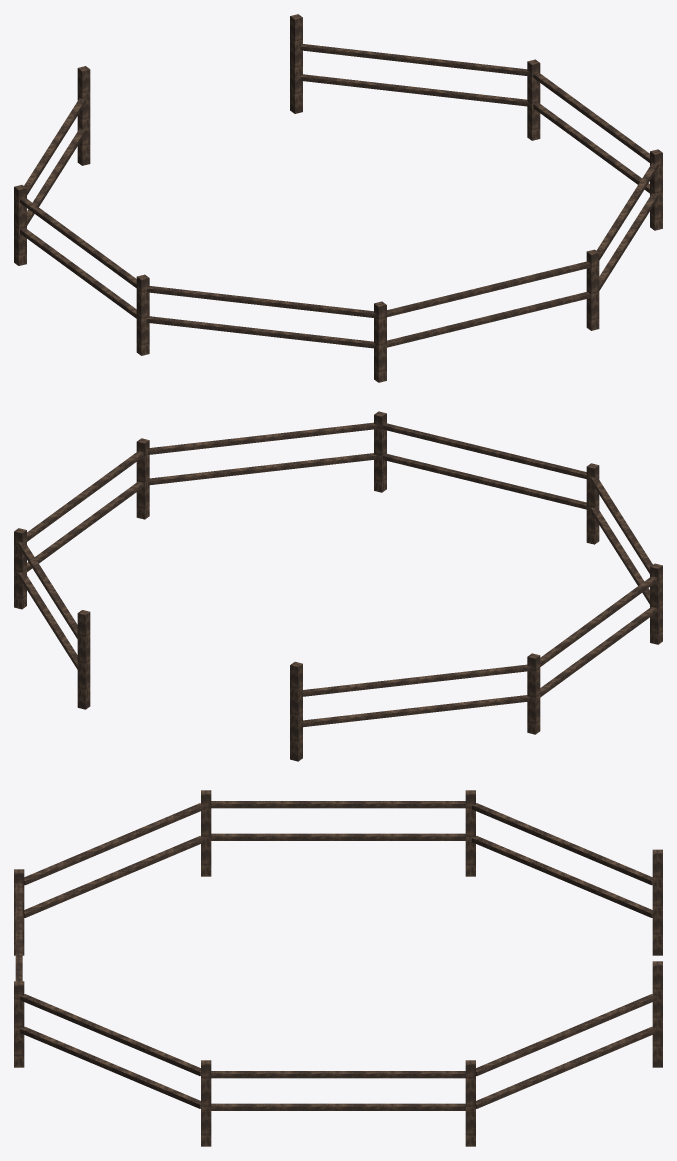
File: prop_training_ring.glb
3 renders of one model, top to bottom at view 1: azimuth 30°, elevation 25°; view 2: azimuth 150°, elevation 25°; view 3: azimuth 270°, elevation 25°, orthographic. The views are drawn at different scales.
Parts seen in each view (by area): view 1: prop_training_ring; view 2: prop_training_ring; view 3: prop_training_ring.
Boxes of the visible parts, <box> form: prop_training_ring: <box>14,14,662,382</box>; prop_training_ring: <box>14,411,662,761</box>; prop_training_ring: <box>14,790,662,1146</box>.
Size of the model in its own units: 8.26 by 1.43 by 8.26.
Materials: 1 (1 with a texture image).
